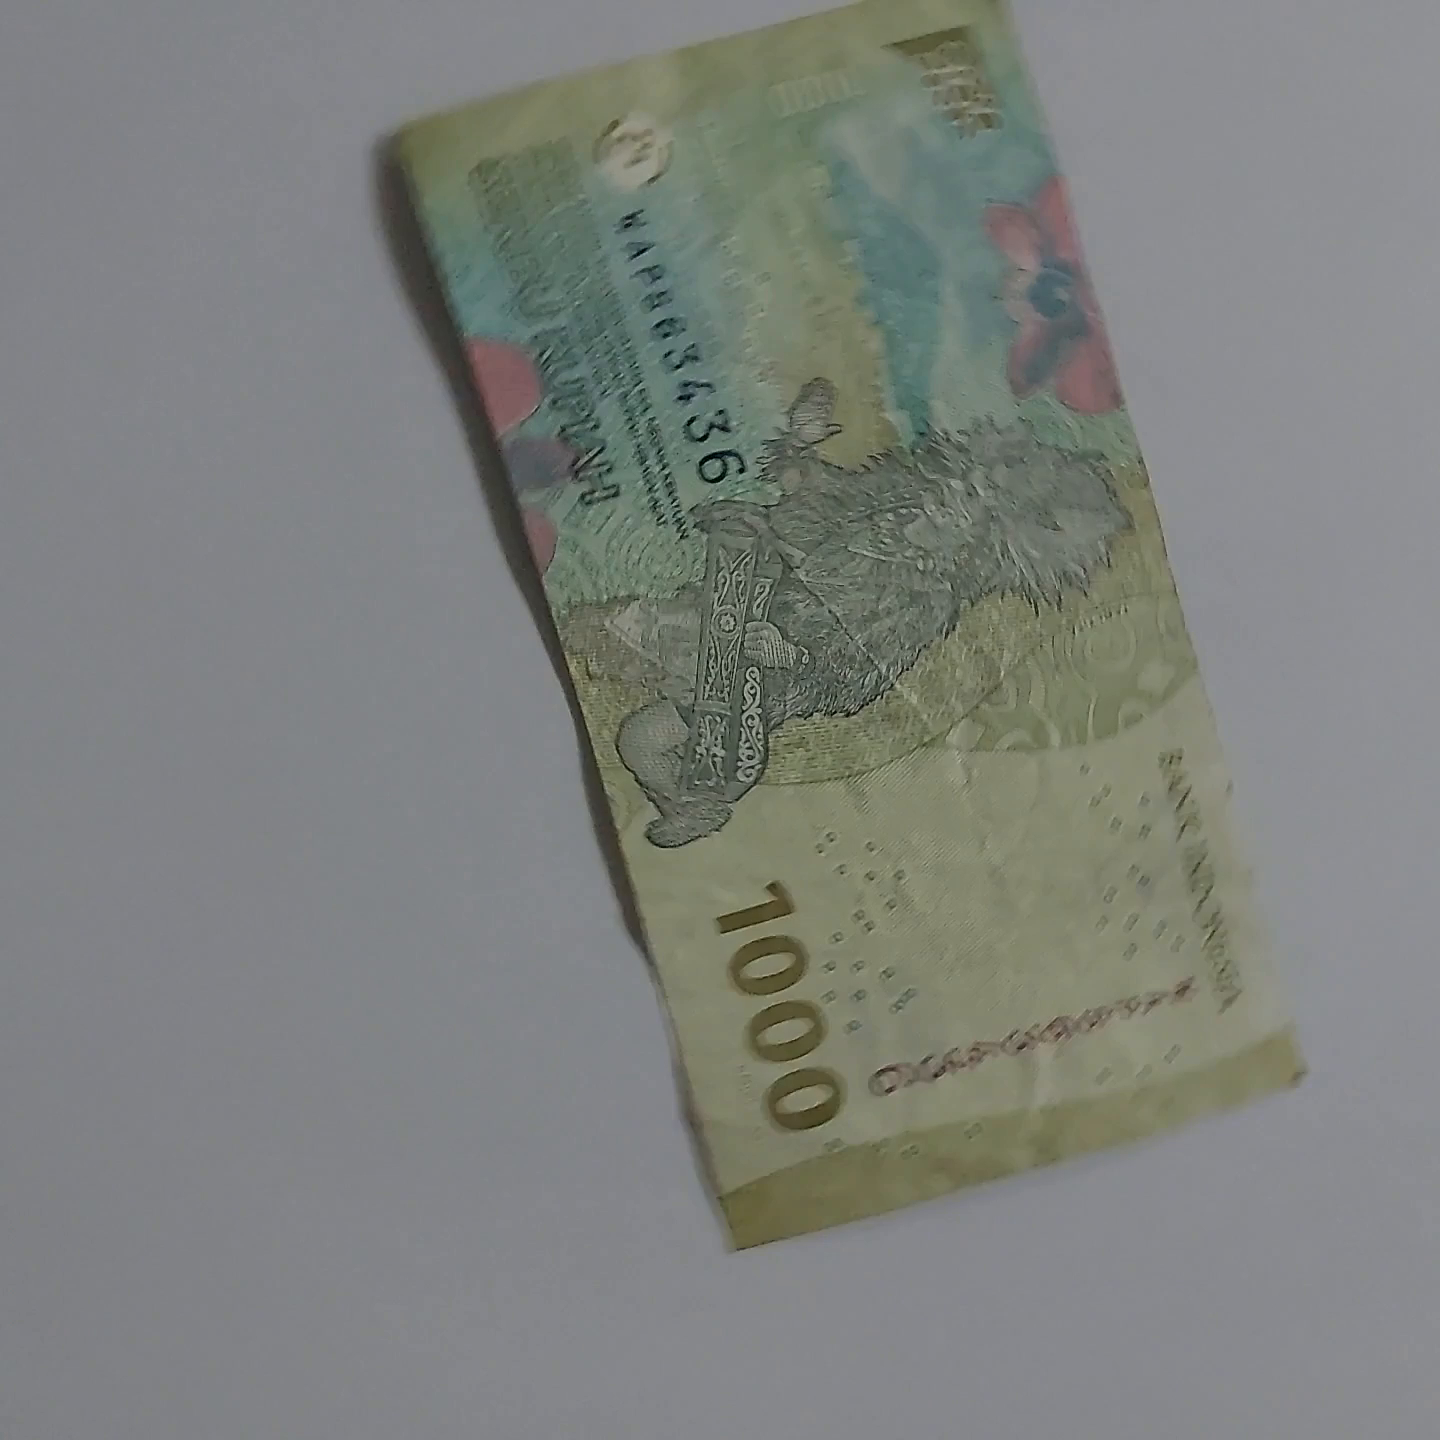1k: (382, 0, 1342, 1271)
